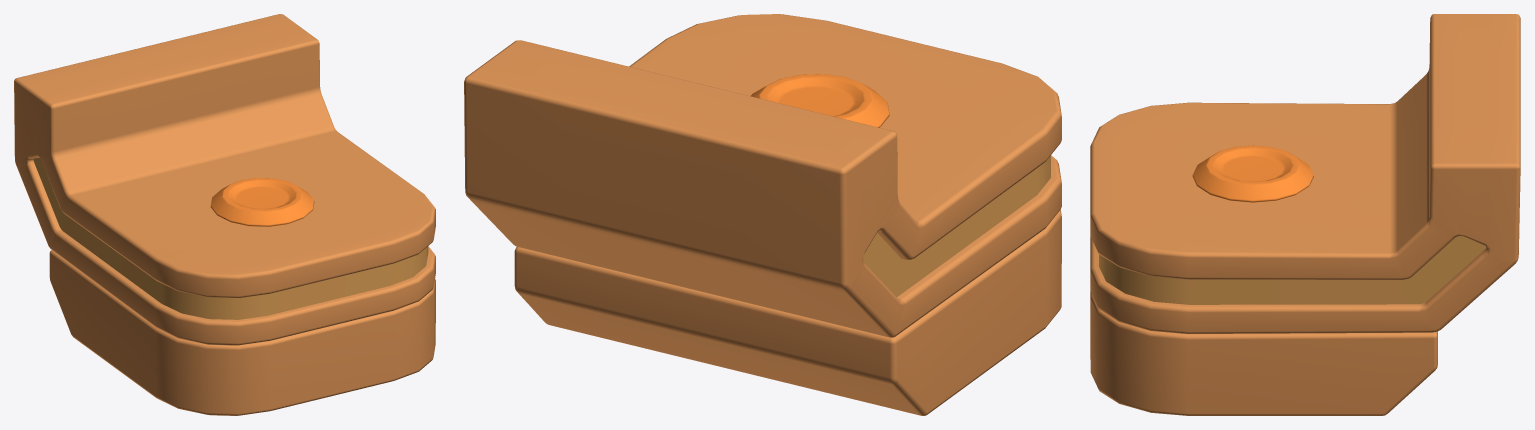
The model's file is Platform.fbx.
The picture shows the model from 3 angles, left to right: view 1: azimuth 30°, elevation 25°; view 2: azimuth 150°, elevation 25°; view 3: azimuth 270°, elevation 25°; orthographic projection. The views are drawn at different scales.
Parts seen in each view (by area): view 1: Platform1, Ball_platform; view 2: Platform1, Ball_platform; view 3: Platform1, Ball_platform.
Part boxes in pixels (x1=…): Platform1: x1=14, y1=14, x2=435, y2=415; Ball_platform: x1=210, y1=178, x2=314, y2=226; Platform1: x1=464, y1=14, x2=1061, y2=415; Ball_platform: x1=751, y1=74, x2=889, y2=127; Platform1: x1=1090, y1=14, x2=1520, y2=415; Ball_platform: x1=1192, y1=145, x2=1313, y2=202.
Size of the model in its own units: 400 by 308 by 476.
